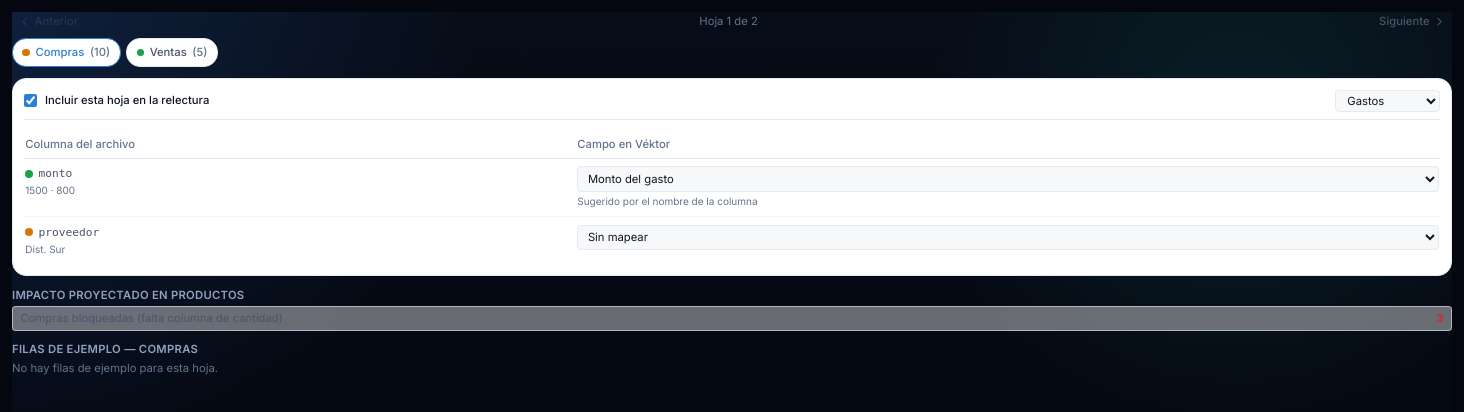
Test: FileInterpretationReview › navega entre hojas con Anterior/Siguiente y muestra 'Hoja X de N'
Expected: the text "Hoja 1 de 2" is shown, [699, 14, 758, 29]
Expected: the button "Anterior" is disabled, [12, 12, 84, 31]
Click the button "Siguiente" at (1413, 21), box [1374, 12, 1452, 31]
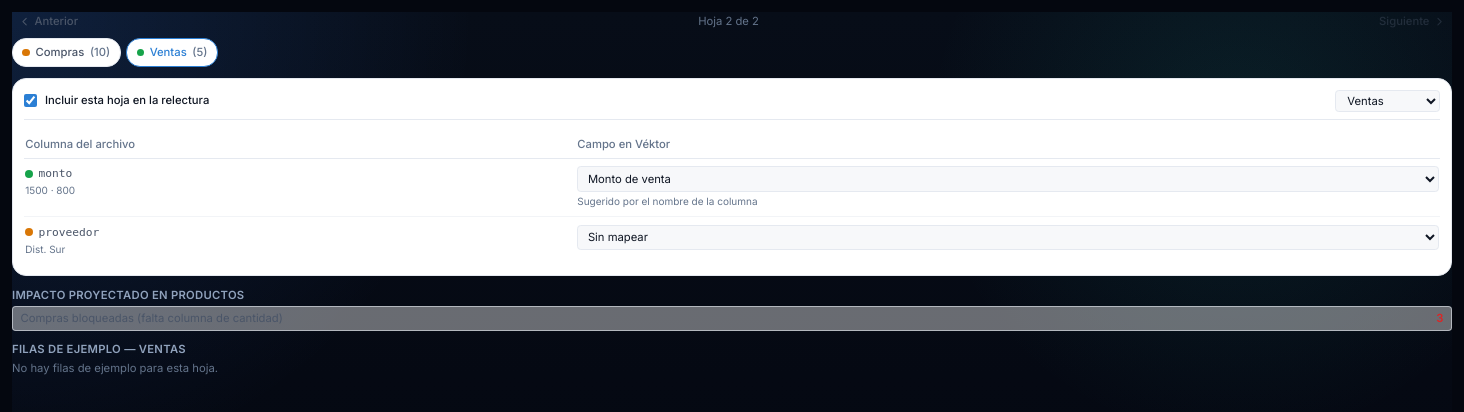
Now the text "Hoja 2 de 2" is shown, box [698, 14, 759, 29]
Now the button "Siguiente" is disabled, box [1374, 12, 1452, 31]
Click the button "Anterior" at (48, 21), box [12, 12, 84, 31]
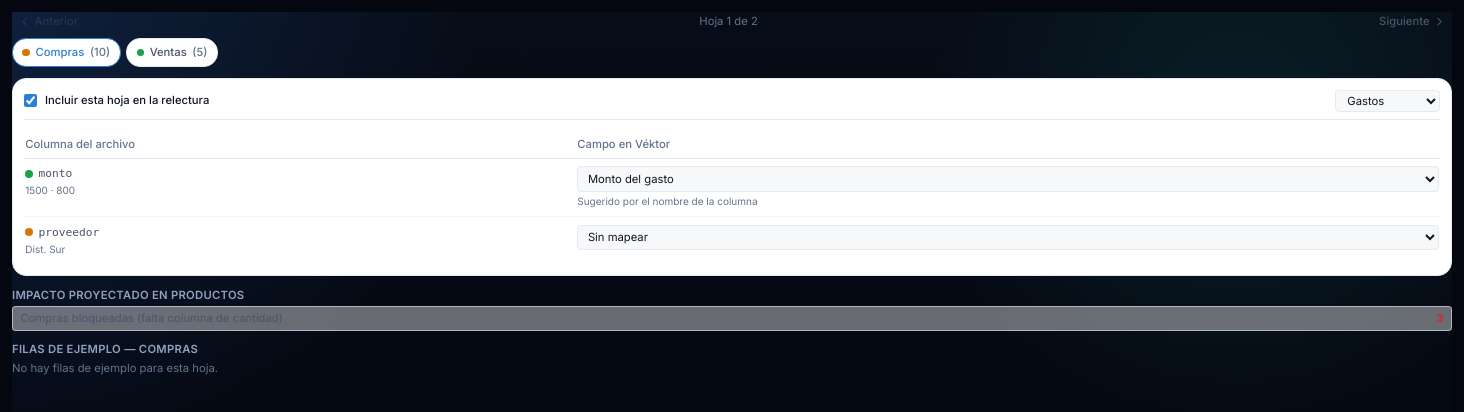
Now the text "Hoja 1 de 2" is shown, box [699, 14, 758, 29]
